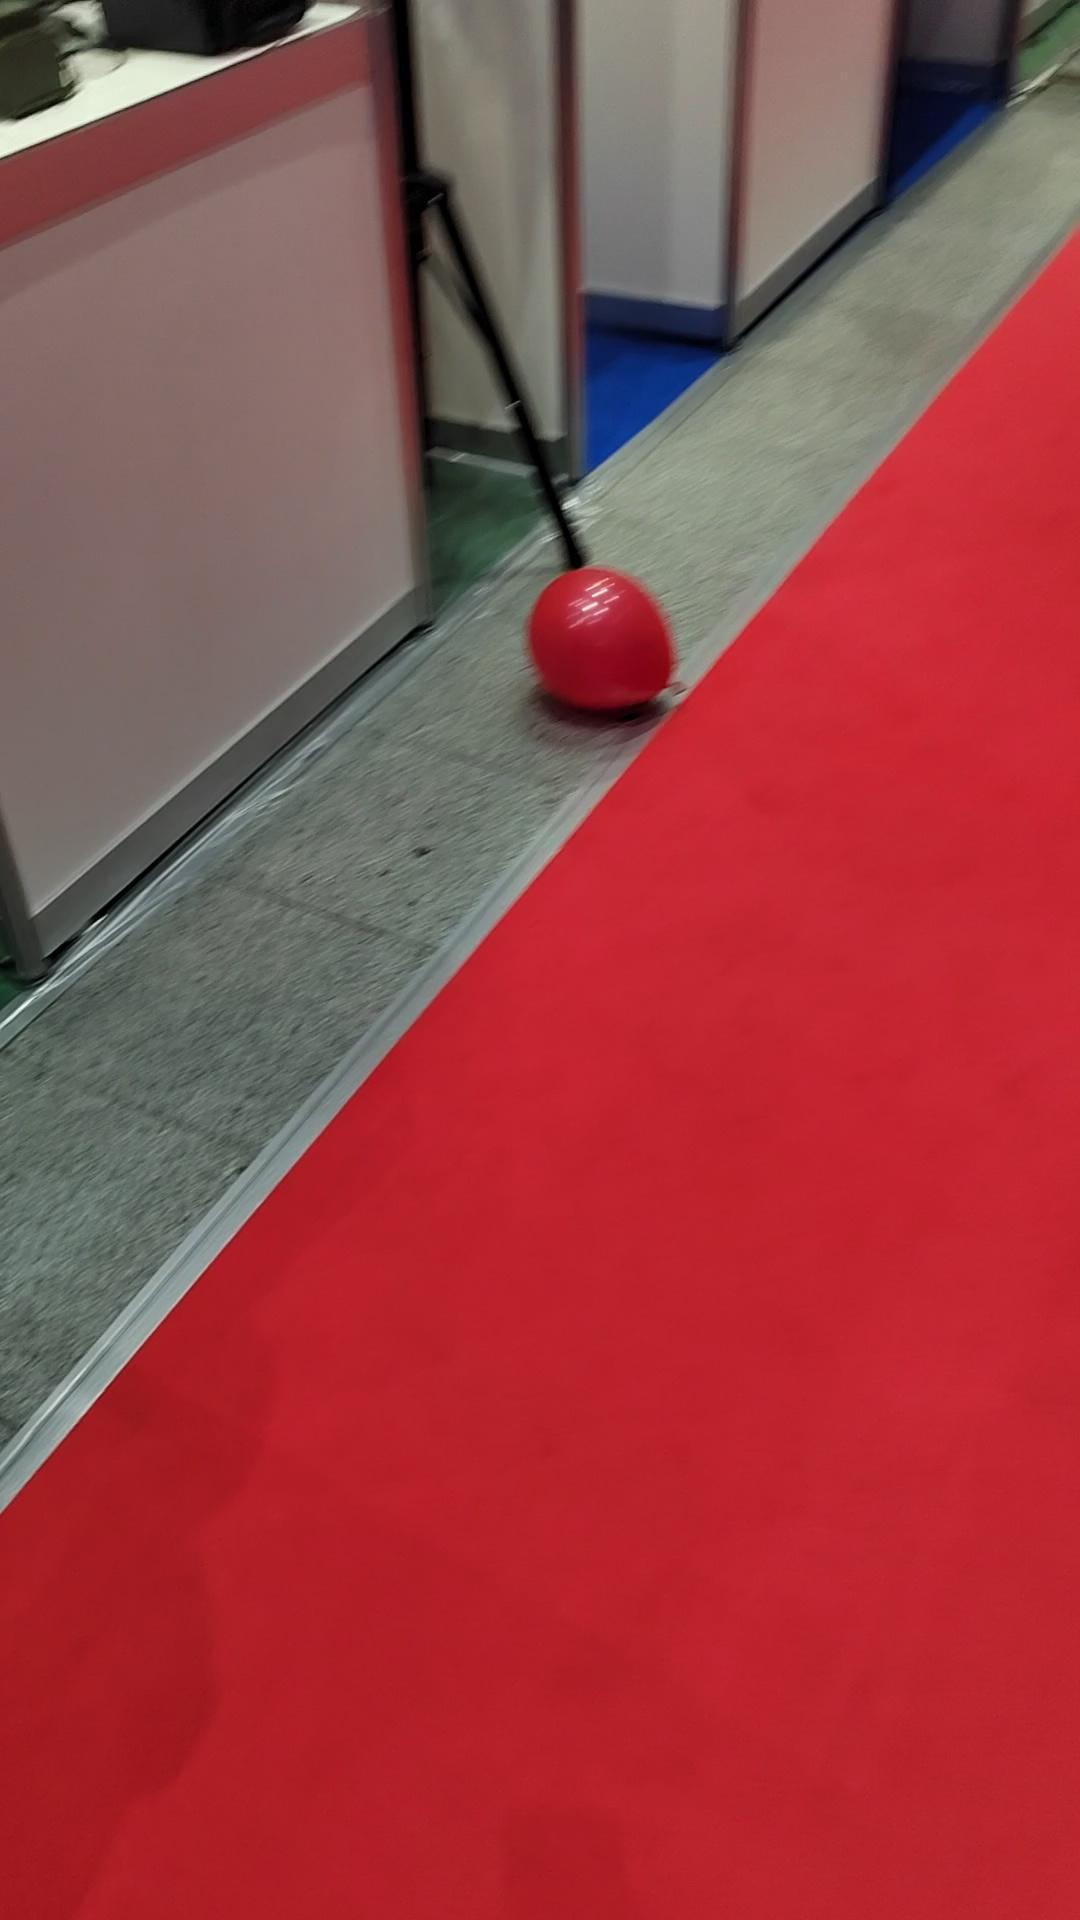red: (524, 560, 678, 716)
